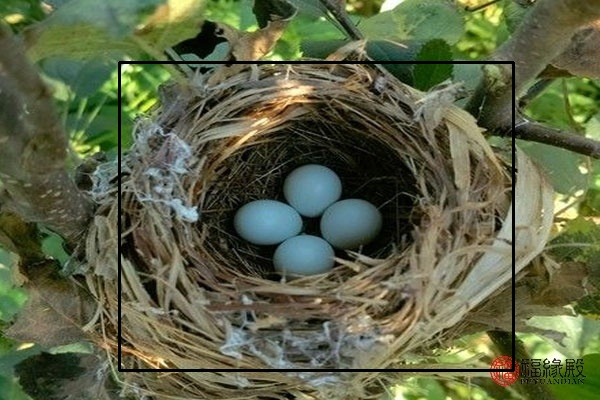bird-nest: (109, 61, 532, 390)
